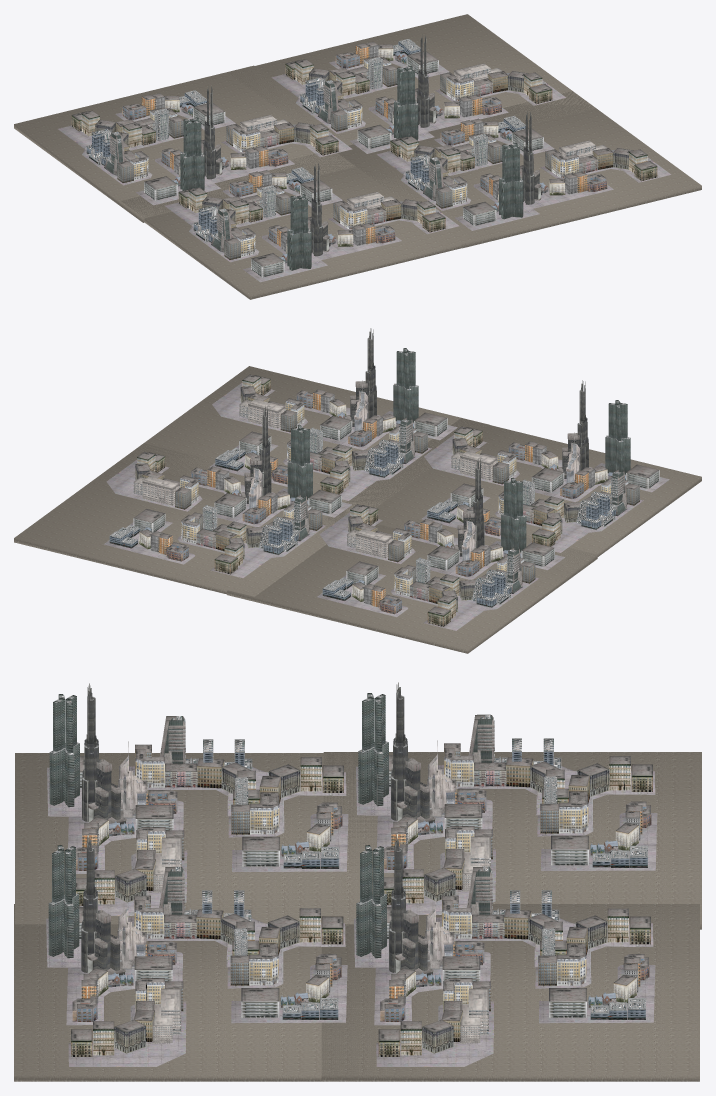
Rendered from futuristic.glb.
3 views of the same model, one above another, from view 1: azimuth 30°, elevation 25°; view 2: azimuth 150°, elevation 25°; view 3: azimuth 270°, elevation 25° (orthographic). The views are drawn at different scales.
Parts seen in each view (by area): view 1: Material2 (×7); view 2: Material2 (×7); view 3: Material2 (×6).
Part boxes in pixels (left/top/right/bottom): Material2 (×7): left=14, top=14, right=701, bottom=299; Material2 (×7): left=14, top=328, right=701, bottom=653; Material2 (×6): left=14, top=682, right=701, bottom=1081.
Bounding box in the file's own units: 169254 × 34287 × 152116.
5 materials, 4 textured.
